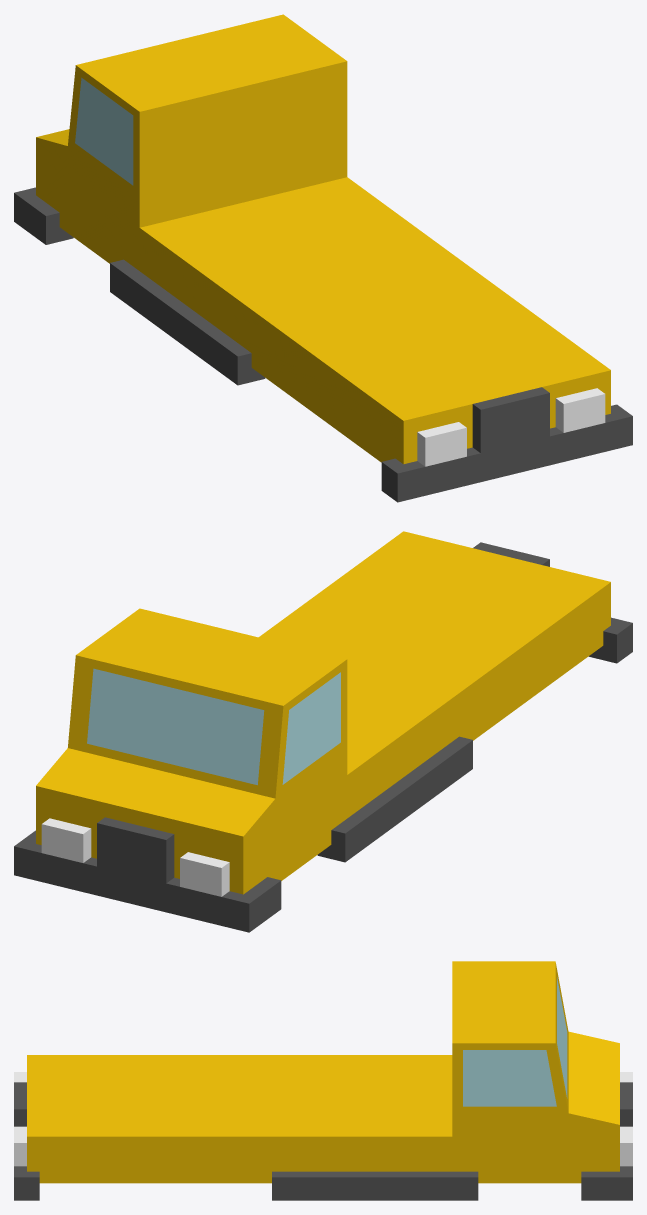
Rendered from geo-truck.glb.
3 renders of one model, top to bottom at view 1: azimuth 30°, elevation 25°; view 2: azimuth 150°, elevation 25°; view 3: azimuth 270°, elevation 25°, orthographic. The views are drawn at different scales.
Parts seen in each view (by area): view 1: mesh1253812370, mesh234764379, mesh1995517089, mesh1517096333, mesh1142975511, mesh915778209, mesh995402667, mesh462404077, mesh1037771835, mesh1441828882; view 2: mesh1253812370, mesh234764379, mesh915778209, mesh1441828882, mesh1517096333, mesh331119013, mesh2082209146, mesh1339679968, mesh1995517089, mesh1037771835, mesh1142975511; view 3: mesh1253812370, mesh234764379, mesh915778209, mesh1163407992, mesh1995517089, mesh1441828882, mesh640990516, mesh1142975511, mesh331119013, mesh2082209146, mesh995402667.
Boxes of the visible parts, x1,y1,x2,y2 form: mesh1253812370: (139,177,610,464); mesh234764379: (67,14,347,270); mesh1995517089: (381,404,632,502); mesh1517096333: (110,259,265,385); mesh1142975511: (472,387,549,452); mesh915778209: (36,129,69,232); mesh995402667: (555,388,605,432); mesh462404077: (417,422,466,466); mesh1037771835: (30,201,73,244); mesh1441828882: (14,187,43,232); mesh1253812370: (259,531,610,817); mesh234764379: (68,608,347,880); mesh915778209: (36,748,275,894); mesh1441828882: (14,834,265,932); mesh1517096333: (317,736,472,862); mesh331119013: (97,817,174,897); mesh2082209146: (41,818,91,862); mesh1339679968: (180,852,229,896); mesh1995517089: (588,617,632,663); mesh1037771835: (252,877,281,920); mesh1142975511: (473,542,549,566); mesh1253812370: (27,1055,452,1183); mesh234764379: (452,961,568,1183); mesh915778209: (568,1031,619,1183); mesh1163407992: (272,1171,478,1200); mesh1995517089: (14,1166,39,1200); mesh1441828882: (607,1166,632,1200); mesh640990516: (581,1171,607,1200); mesh1142975511: (14,1082,26,1126); mesh331119013: (620,1082,632,1126); mesh2082209146: (620,1126,632,1166); mesh995402667: (14,1126,26,1166).
Size of the model in its own units: 0.17 by 0.13 by 0.48.
